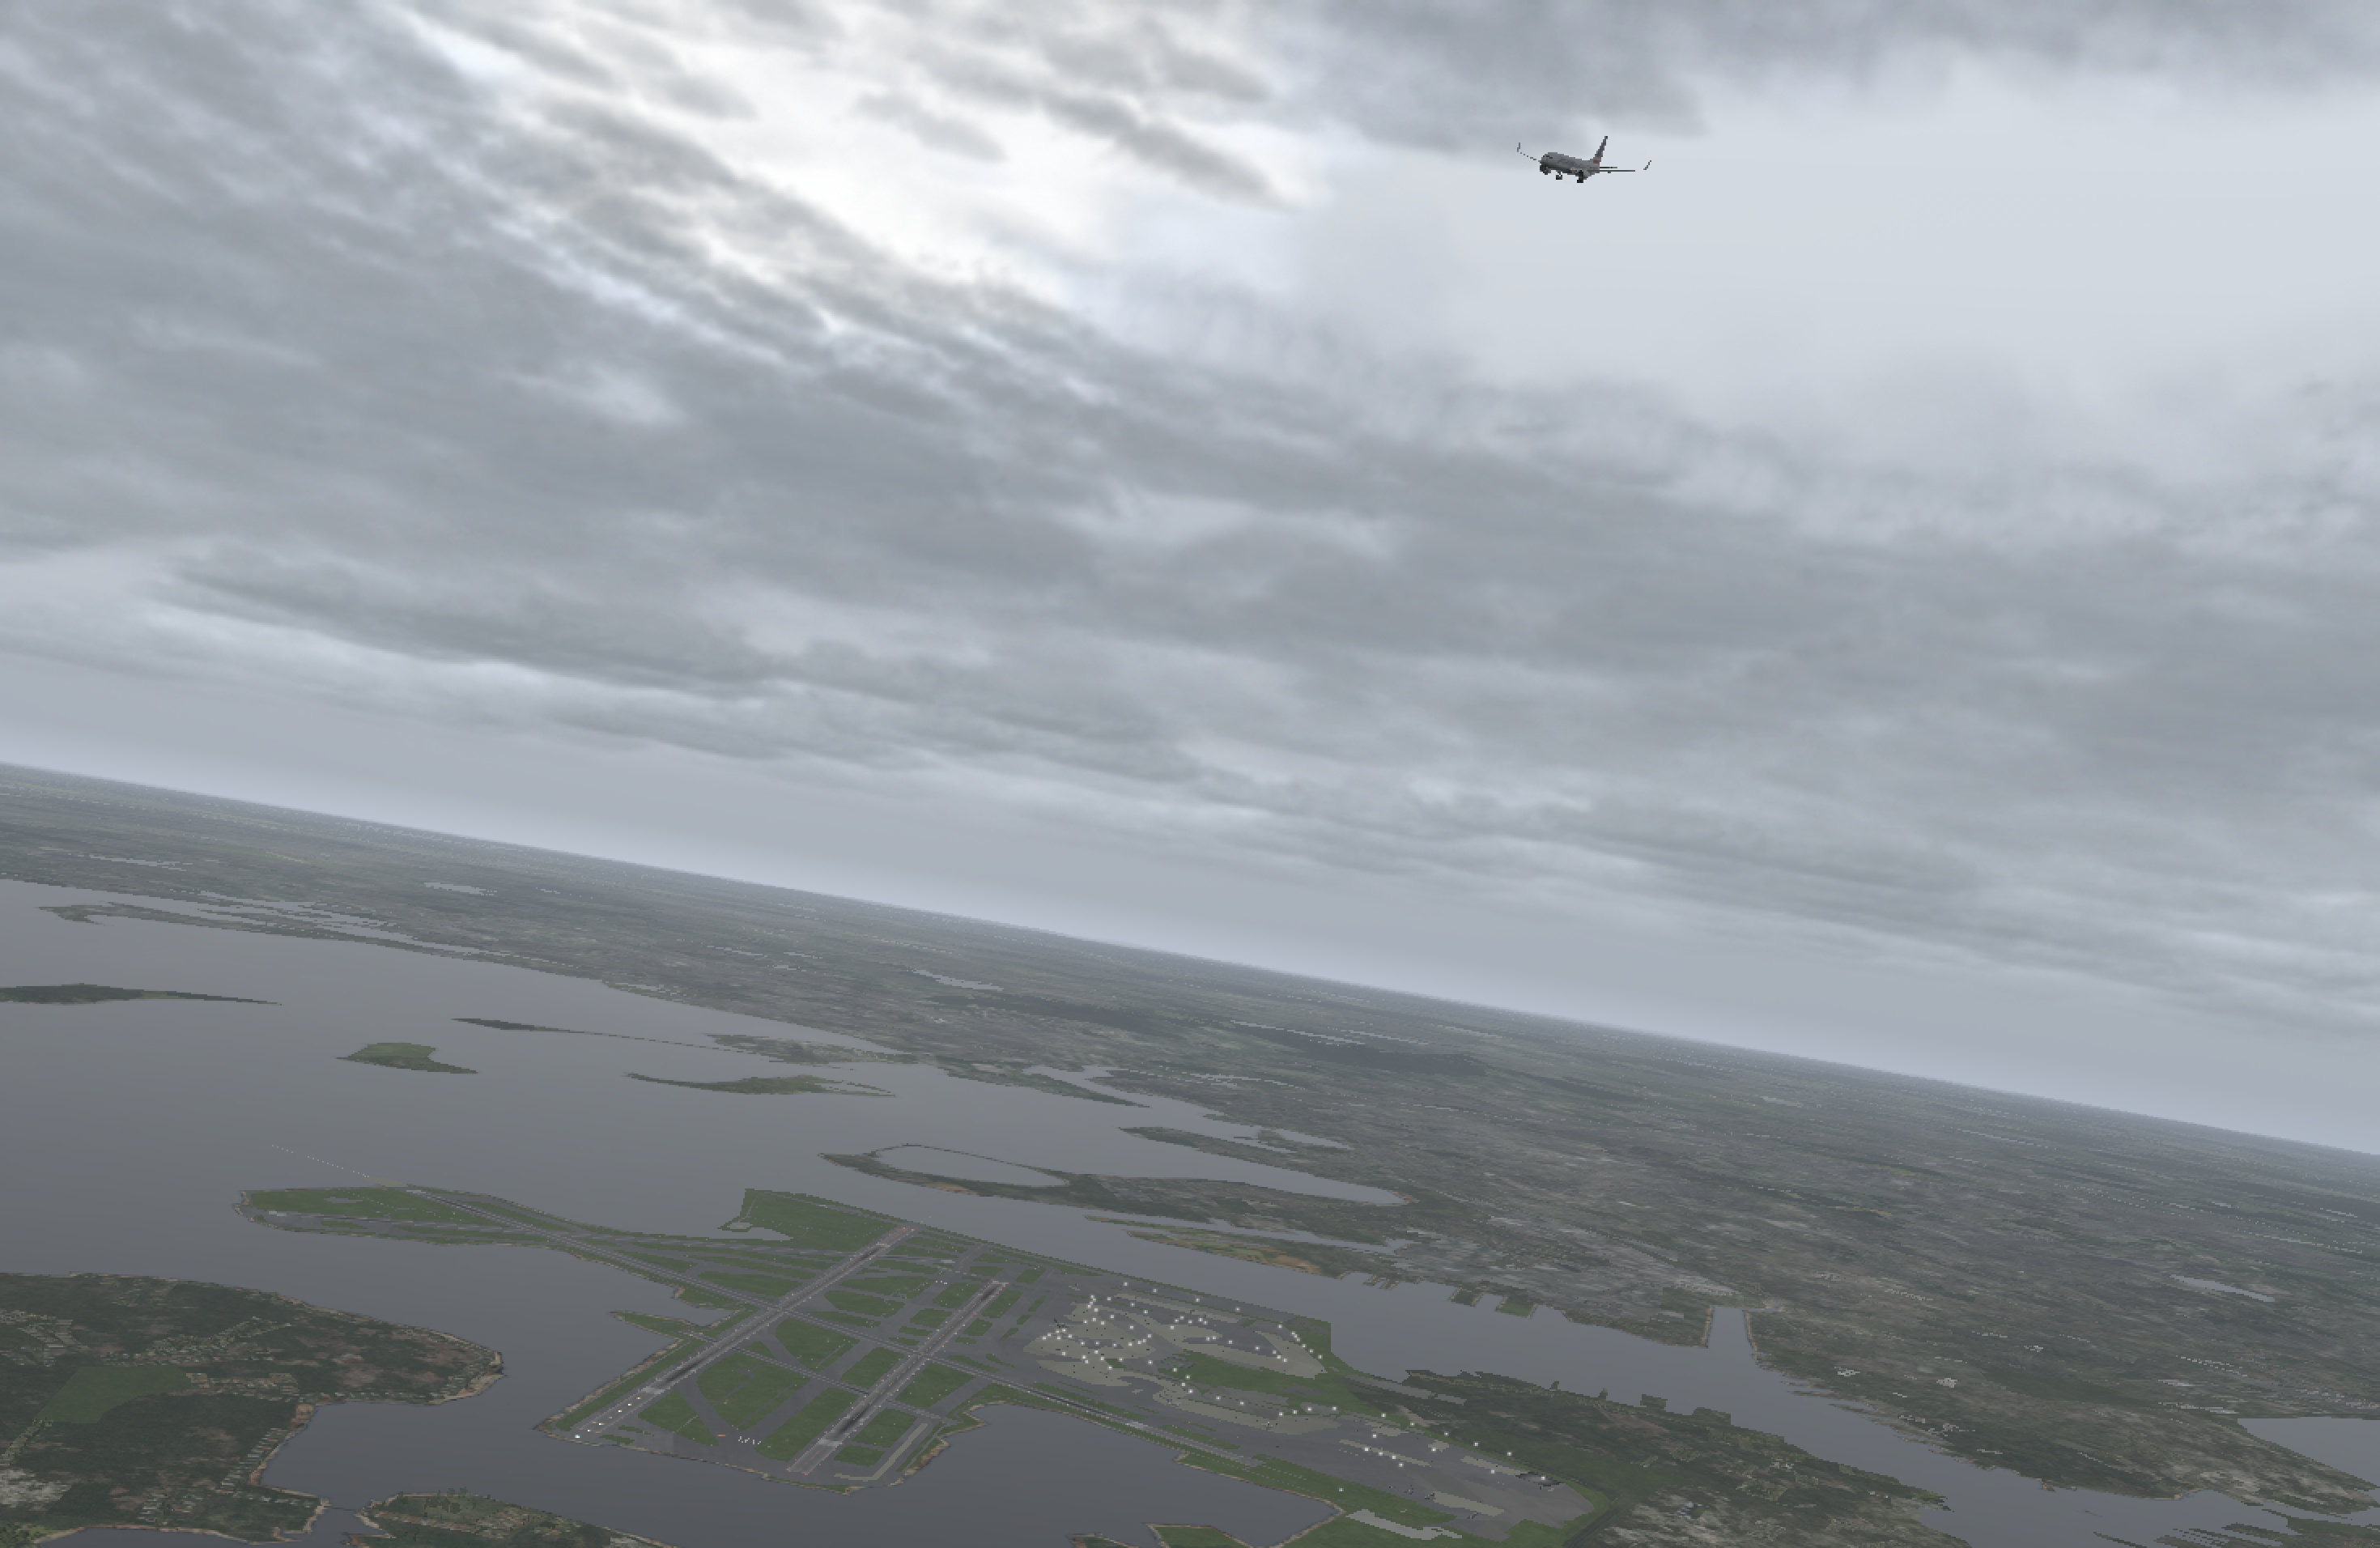aircraft: (1494, 139, 1646, 196)
